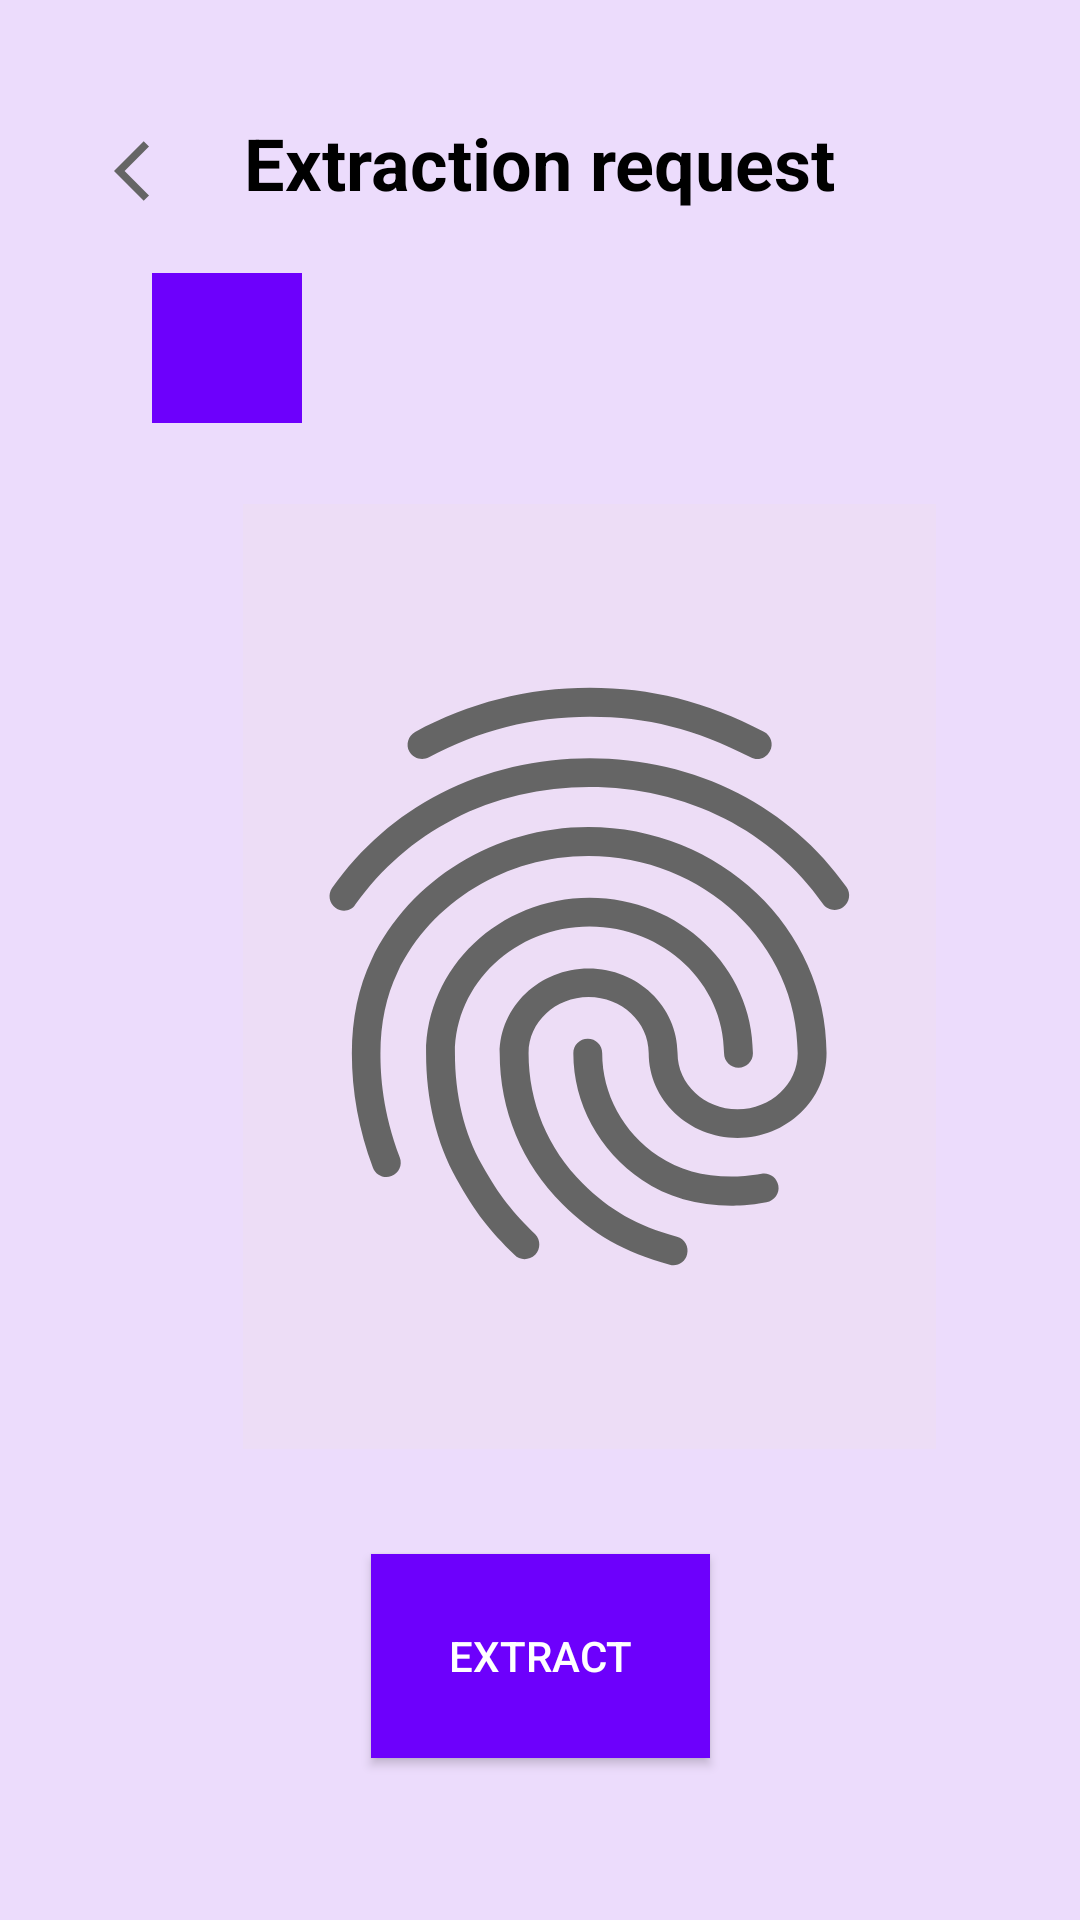

Where icons sit on this 1080px x 1920px app screen, as rect(x1, y1, x2, y2):
back arrow: rect(114, 141, 149, 201)
